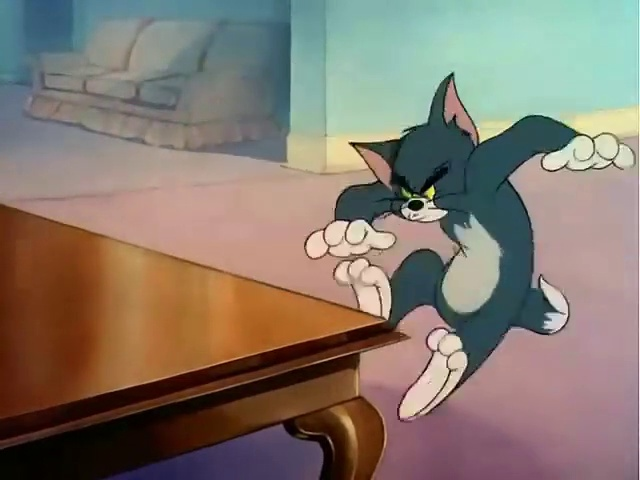tom: (284, 57, 640, 420)
